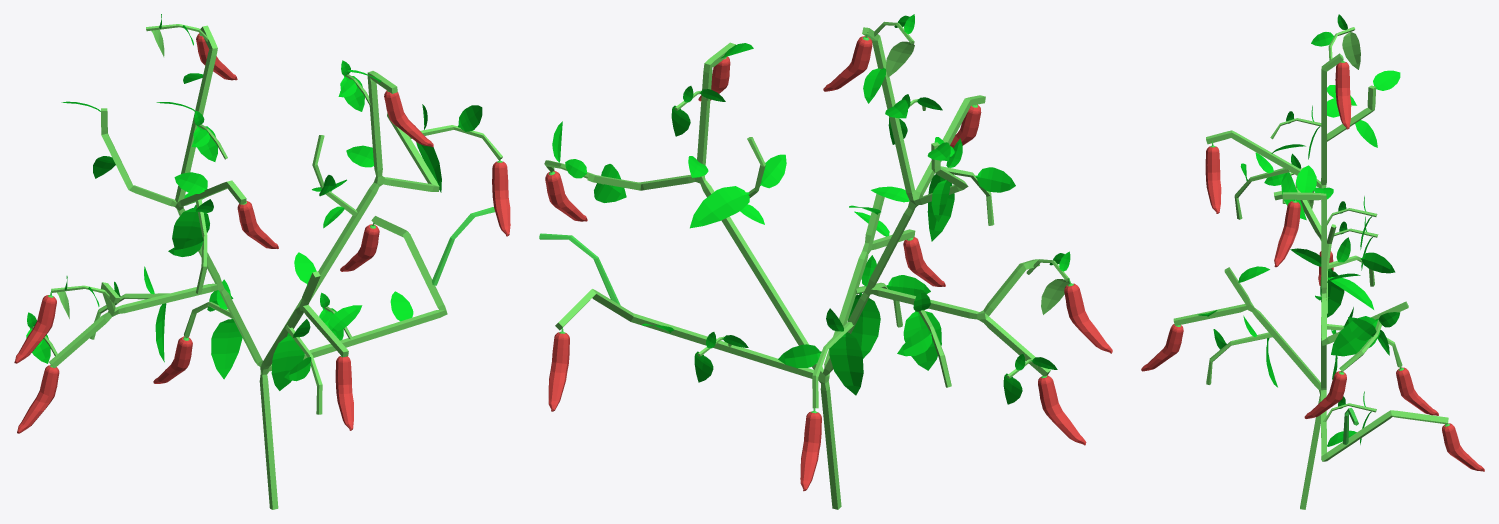
File: Chilli.fbx
The picture shows the model from 3 angles, left to right: view 1: azimuth 30°, elevation 25°; view 2: azimuth 150°, elevation 25°; view 3: azimuth 270°, elevation 25°; orthographic projection. The views are drawn at different scales.
Parts seen in each view (by area): view 1: Chili Tree; view 2: Chili Tree; view 3: Chili Tree.
Boxes of the visible parts, x1,y1,x2,y2 form: Chili Tree: [14, 14, 510, 509]; Chili Tree: [539, 14, 1112, 509]; Chili Tree: [1141, 14, 1484, 509].
Size of the model in its own units: 658 by 617 by 424.
